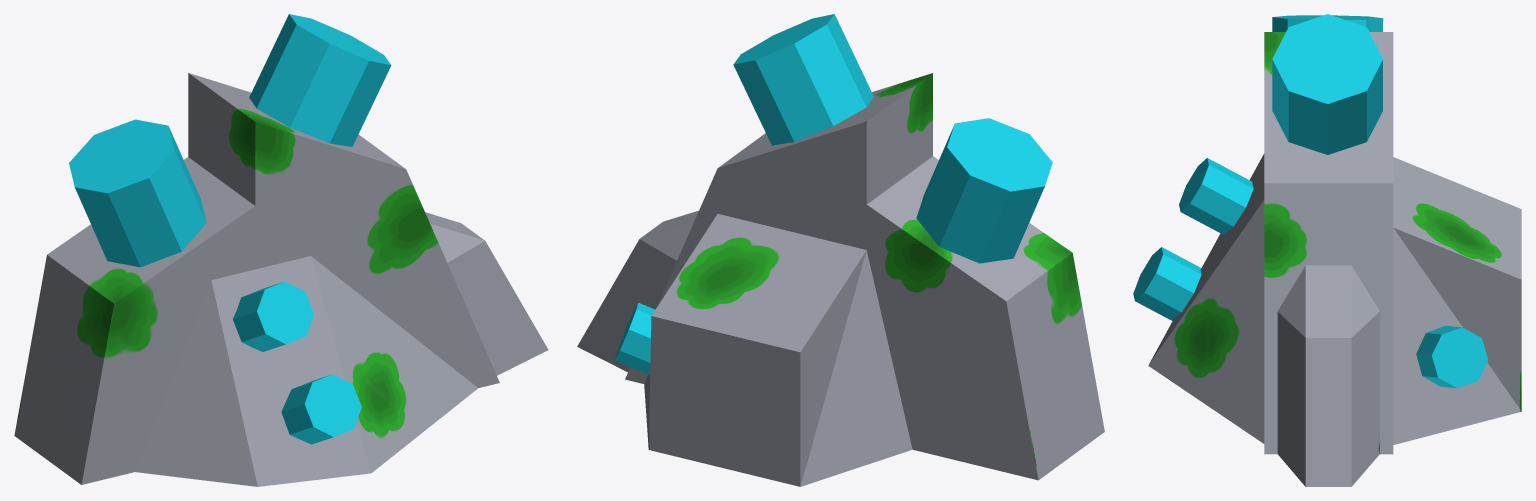
File: DiamanteMusgoTipo2.fbx
3 renders of one model, left to right at view 1: azimuth 30°, elevation 25°; view 2: azimuth 150°, elevation 25°; view 3: azimuth 270°, elevation 25°, orthographic. The views are drawn at different scales.
Parts seen in each view (by area): view 1: base.042, diamante.015, diamante.016, diamante.014, diamante.013; view 2: base.042, diamante.015, diamante.016, diamante.012; view 3: base.042, diamante.016, diamante.014, diamante.012, diamante.013, diamante.015.
Boxes of the visible parts, <box> form: base.042: <box>14,73,548,486</box>; diamante.015: <box>69,119,206,267</box>; diamante.016: <box>249,14,391,146</box>; diamante.014: <box>233,281,313,351</box>; diamante.013: <box>281,374,361,444</box>; base.042: <box>577,73,1104,486</box>; diamante.015: <box>916,118,1052,263</box>; diamante.016: <box>733,14,873,145</box>; diamante.012: <box>615,302,655,374</box>; base.042: <box>1148,32,1521,486</box>; diamante.016: <box>1272,14,1382,154</box>; diamante.014: <box>1179,158,1253,234</box>; diamante.012: <box>1416,325,1488,388</box>; diamante.013: <box>1133,247,1201,320</box>; diamante.015: <box>1272,15,1383,31</box>.
Size of the model in its own units: 140 by 103 by 101.
